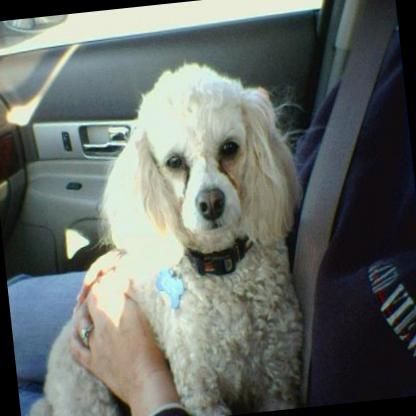miniature_poodle: (0, 51, 323, 416)
